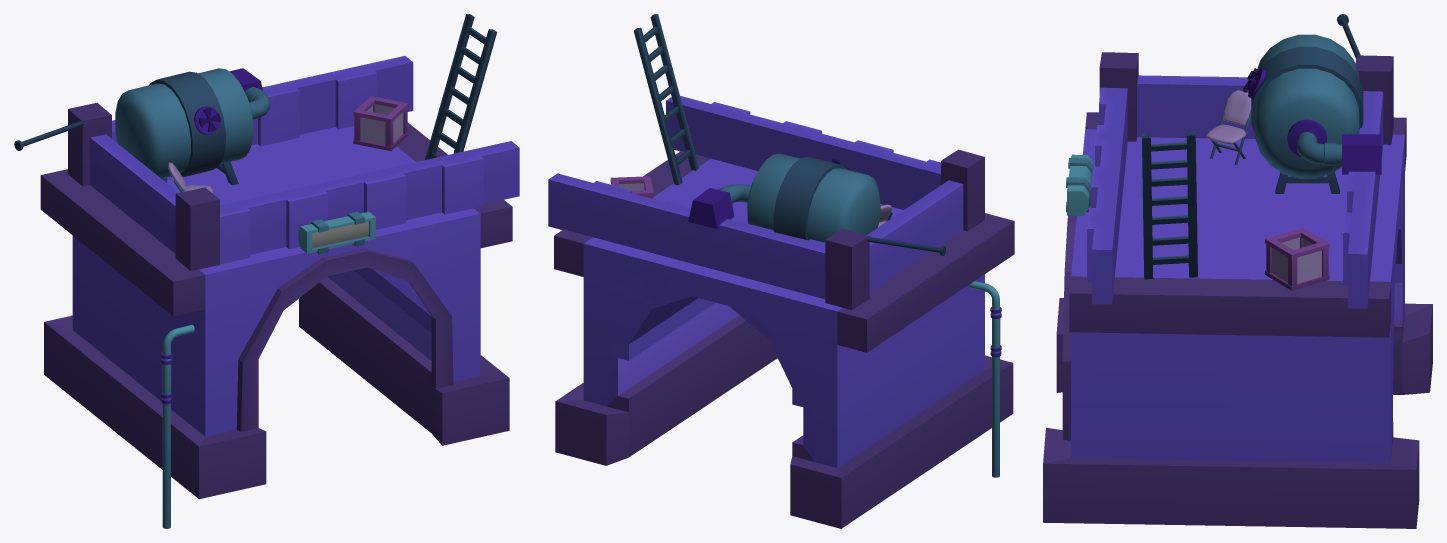
Rendered from scene_bridge.obj.
3 views of the same model, side by side, from view 1: azimuth 30°, elevation 25°; view 2: azimuth 150°, elevation 25°; view 3: azimuth 270°, elevation 25° (orthographic). The views are drawn at different scales.
Parts seen in each view (by area): view 1: bridge; view 2: bridge; view 3: bridge.
Boxes of the visible parts, left/top/right/bottom form: bridge: left=14, top=14, right=519, bottom=528; bridge: left=548, top=14, right=1014, bottom=528; bridge: left=1043, top=14, right=1432, bottom=528.
Bounding box in the file's own units: 968 × 939 × 730.
2 materials, 1 textured.
